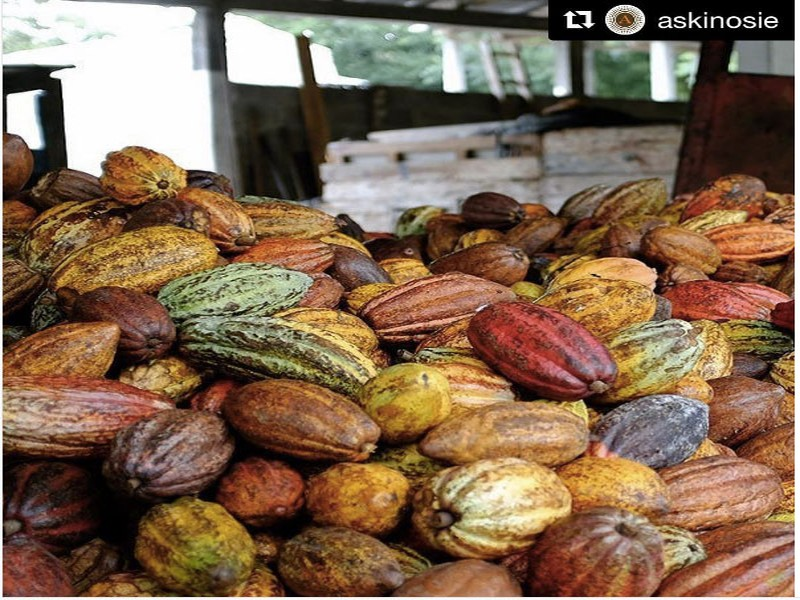Cacaopod: (469, 300, 617, 400)
